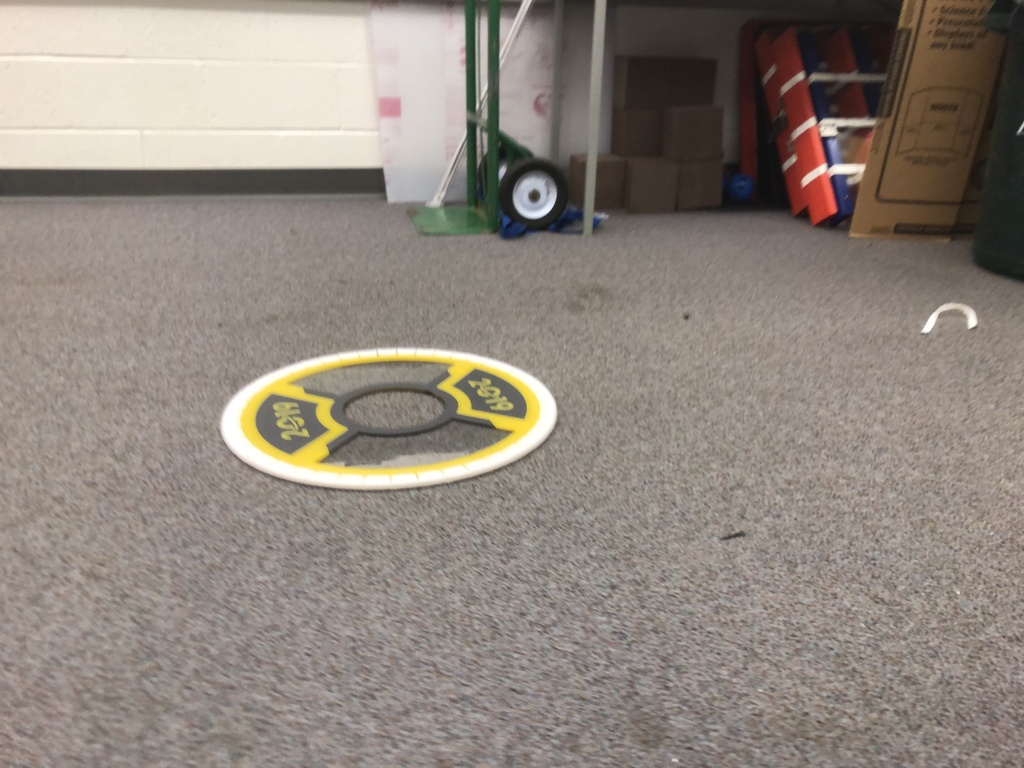hatch_panel: (209, 336, 567, 487)
